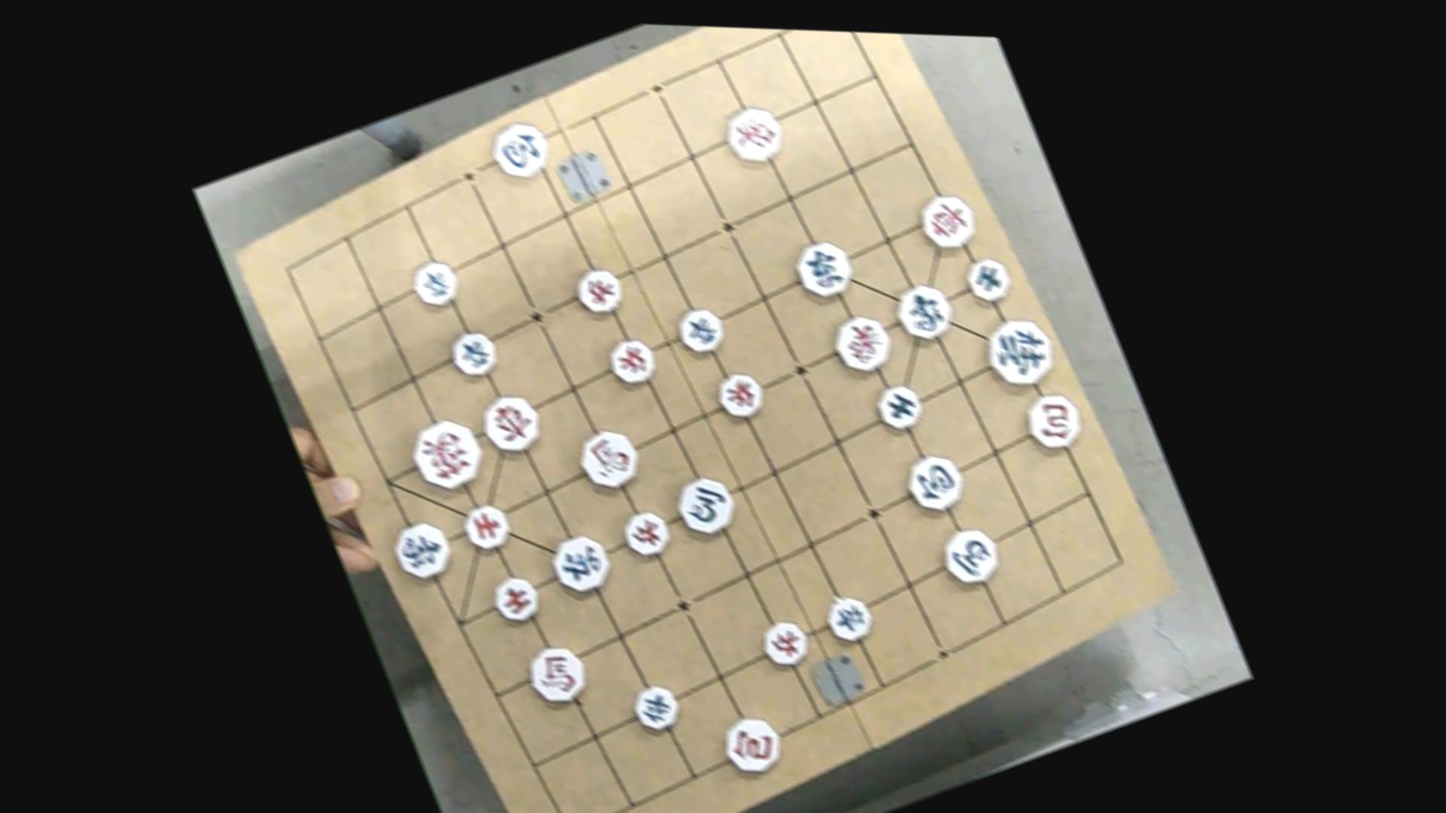cha_green: (792, 235, 860, 306), (547, 527, 614, 598)
cha_red: (477, 386, 545, 458), (917, 187, 979, 254)
jol_green: (407, 254, 467, 314), (822, 589, 877, 649), (448, 325, 503, 385), (629, 678, 684, 737), (676, 302, 731, 361)
jol_red: (755, 614, 814, 674), (715, 363, 770, 424), (573, 263, 628, 323), (606, 332, 661, 391), (621, 504, 676, 563)
ma_green: (673, 469, 741, 542), (937, 521, 1005, 592)
ma_red: (575, 423, 645, 498), (523, 637, 592, 711)
po_green: (487, 111, 557, 187), (902, 447, 969, 518)
po_red: (718, 711, 788, 782), (1020, 387, 1089, 458)
sa_green: (872, 378, 928, 437), (962, 251, 1015, 309)
sa_red: (459, 496, 517, 555), (489, 572, 545, 629)
sang_green: (392, 519, 454, 580), (896, 279, 955, 342)
sang_red: (825, 308, 898, 381), (721, 98, 788, 171)
wang_green: (983, 312, 1057, 387)
wang_red: (406, 410, 488, 500)
